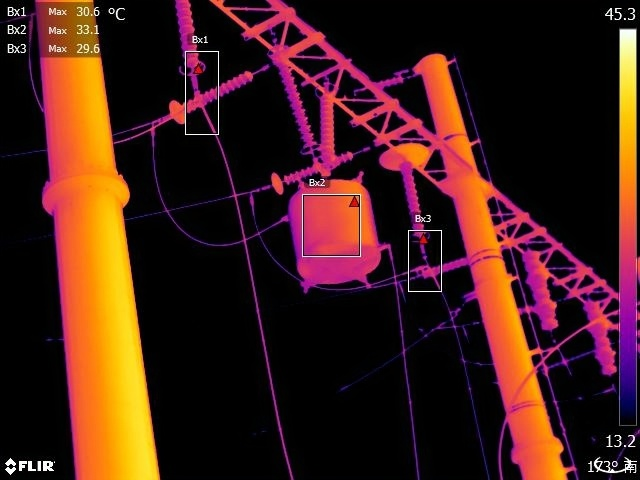clamp: (242, 185, 260, 213), (144, 114, 162, 138)
insulator: (171, 66, 256, 126), (273, 49, 320, 155), (275, 144, 359, 189), (165, 1, 211, 75), (521, 243, 559, 332), (586, 293, 618, 376), (400, 157, 429, 243), (316, 87, 340, 164), (420, 255, 470, 282), (363, 72, 408, 87)
wave trap: (276, 171, 389, 293)
